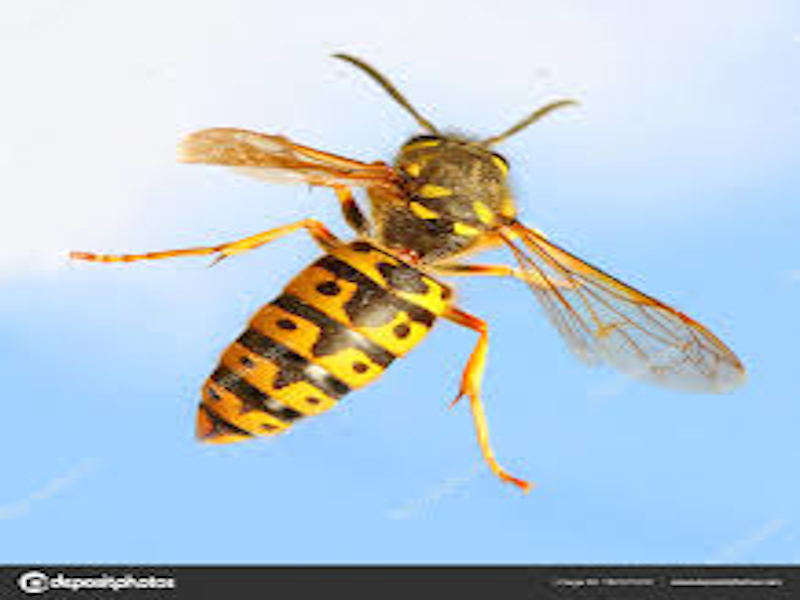chax: (62, 42, 750, 515)
